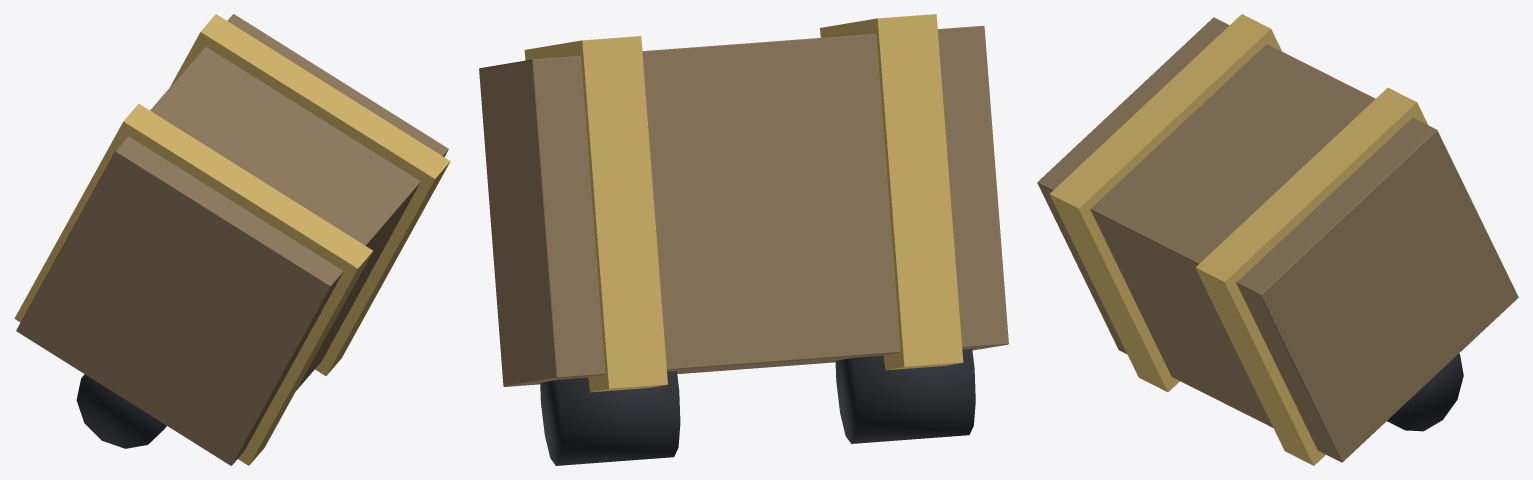
Rendered from rail.glb.
3 views of the same model, side by side, from view 1: azimuth 30°, elevation 25°; view 2: azimuth 150°, elevation 25°; view 3: azimuth 270°, elevation 25° (orthographic). The views are drawn at different scales.
Visible parts, largest first — view 1: fmm_skid_body, fmm_skid_strap_0, fmm_skid_strap_1, fmm_skid_truck_0; view 2: fmm_skid_body, fmm_skid_strap_0, fmm_skid_strap_1, fmm_skid_truck_1, fmm_skid_truck_0; view 3: fmm_skid_body, fmm_skid_strap_0, fmm_skid_strap_1, fmm_skid_truck_1.
Part boxes in pixels (bbox=[...]): fmm_skid_body: bbox=[16, 14, 448, 465]; fmm_skid_strap_0: bbox=[14, 104, 372, 465]; fmm_skid_strap_1: bbox=[170, 14, 450, 375]; fmm_skid_truck_0: bbox=[76, 374, 166, 448]; fmm_skid_body: bbox=[479, 26, 1008, 386]; fmm_skid_strap_0: bbox=[820, 14, 963, 370]; fmm_skid_strap_1: bbox=[524, 36, 667, 392]; fmm_skid_truck_1: bbox=[540, 371, 680, 465]; fmm_skid_truck_0: bbox=[835, 349, 975, 443]; fmm_skid_body: bbox=[1037, 17, 1518, 462]; fmm_skid_strap_0: bbox=[1049, 14, 1281, 392]; fmm_skid_strap_1: bbox=[1195, 87, 1427, 465]; fmm_skid_truck_1: bbox=[1387, 353, 1463, 431].
Size of the model in its own units: 0.0638 by 0.0477 by 0.0636.
